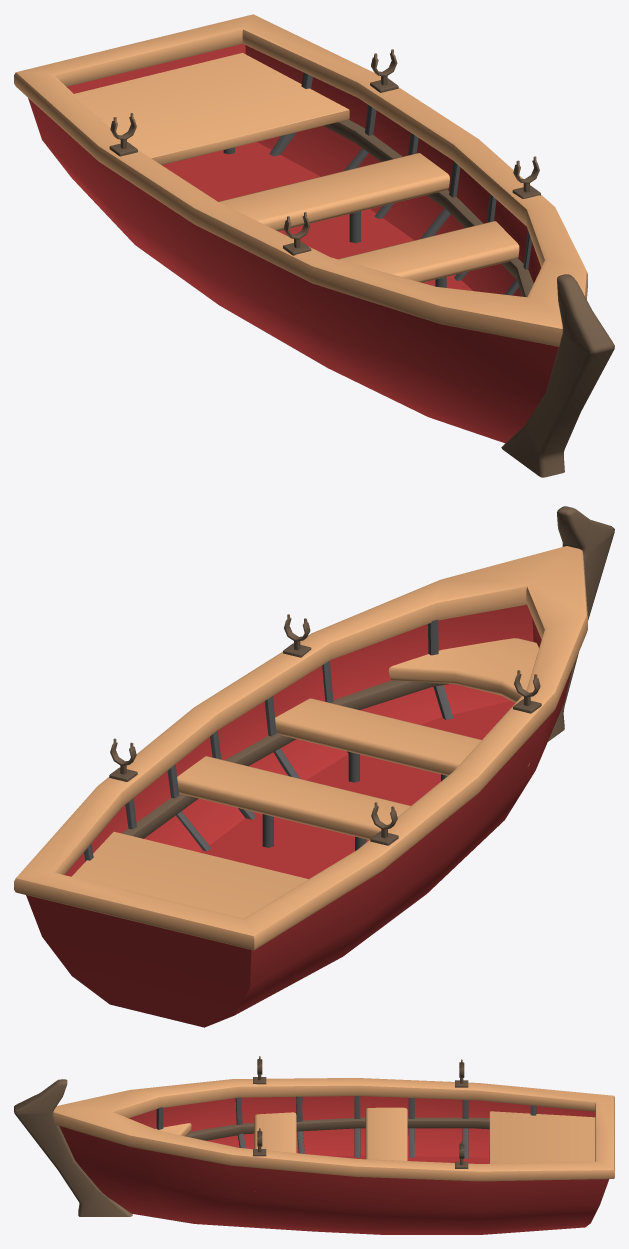
File: Boat_03.fbx
3 renders of one model, top to bottom at view 1: azimuth 30°, elevation 25°; view 2: azimuth 150°, elevation 25°; view 3: azimuth 270°, elevation 25°, orthographic. The views are drawn at different scales.
Visible parts, largest first — view 1: Boat_03; view 2: Boat_03; view 3: Boat_03.
Part boxes in pixels (left/top/right/bottom): Boat_03: left=14, top=14, right=614, bottom=477; Boat_03: left=14, top=506, right=614, bottom=1027; Boat_03: left=14, top=1056, right=614, bottom=1234.
Bounding box in the file's own units: 2264 × 1568 × 6436.
